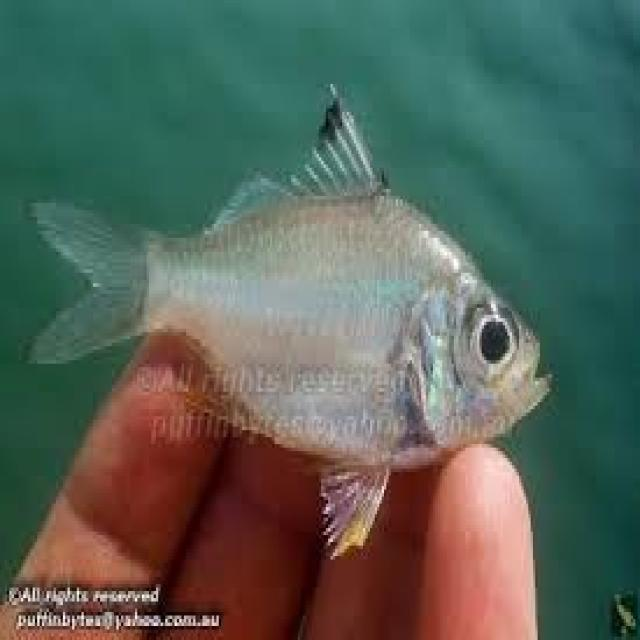Glass-Perchlet: (21, 88, 606, 570)
